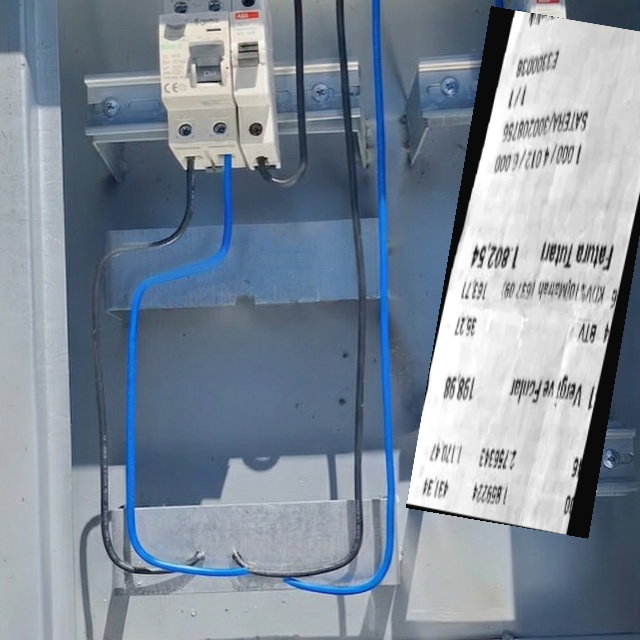electricity-bill: (405, 6, 639, 538)
